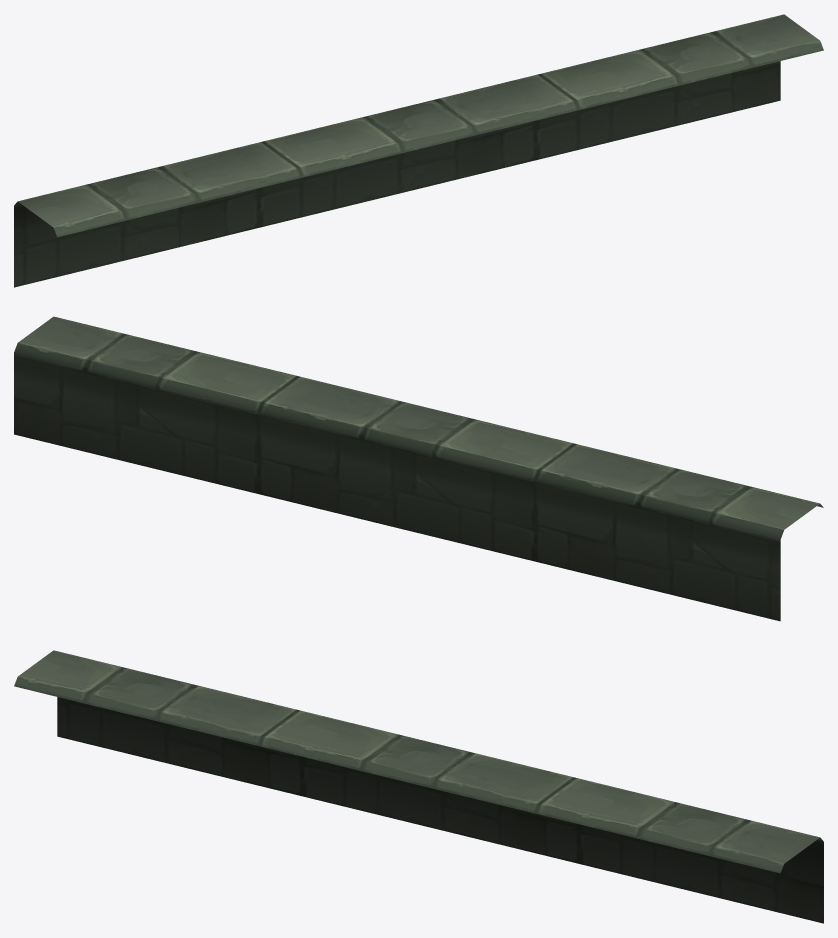
File: yw_shanlin_shoulder_001.FBX
3 views of the same model, one above another, from view 1: azimuth 30°, elevation 25°; view 2: azimuth 150°, elevation 25°; view 3: azimuth 330°, elevation 25° (orthographic).
Parts seen in each view (by area): view 1: yw_shanlin_shoulder_001; view 2: yw_shanlin_shoulder_001; view 3: yw_shanlin_shoulder_001.
Part boxes in pixels (<box>): yw_shanlin_shoulder_001: <box>14,14,823,287</box>; yw_shanlin_shoulder_001: <box>14,316,823,621</box>; yw_shanlin_shoulder_001: <box>14,650,823,923</box>.
Size of the model in its own units: 1665 by 163 by 185.
